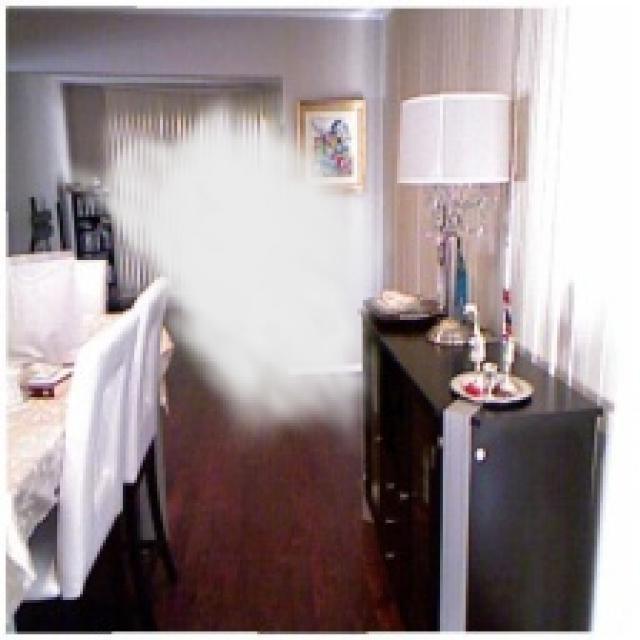Smoke: (40, 86, 397, 457)
